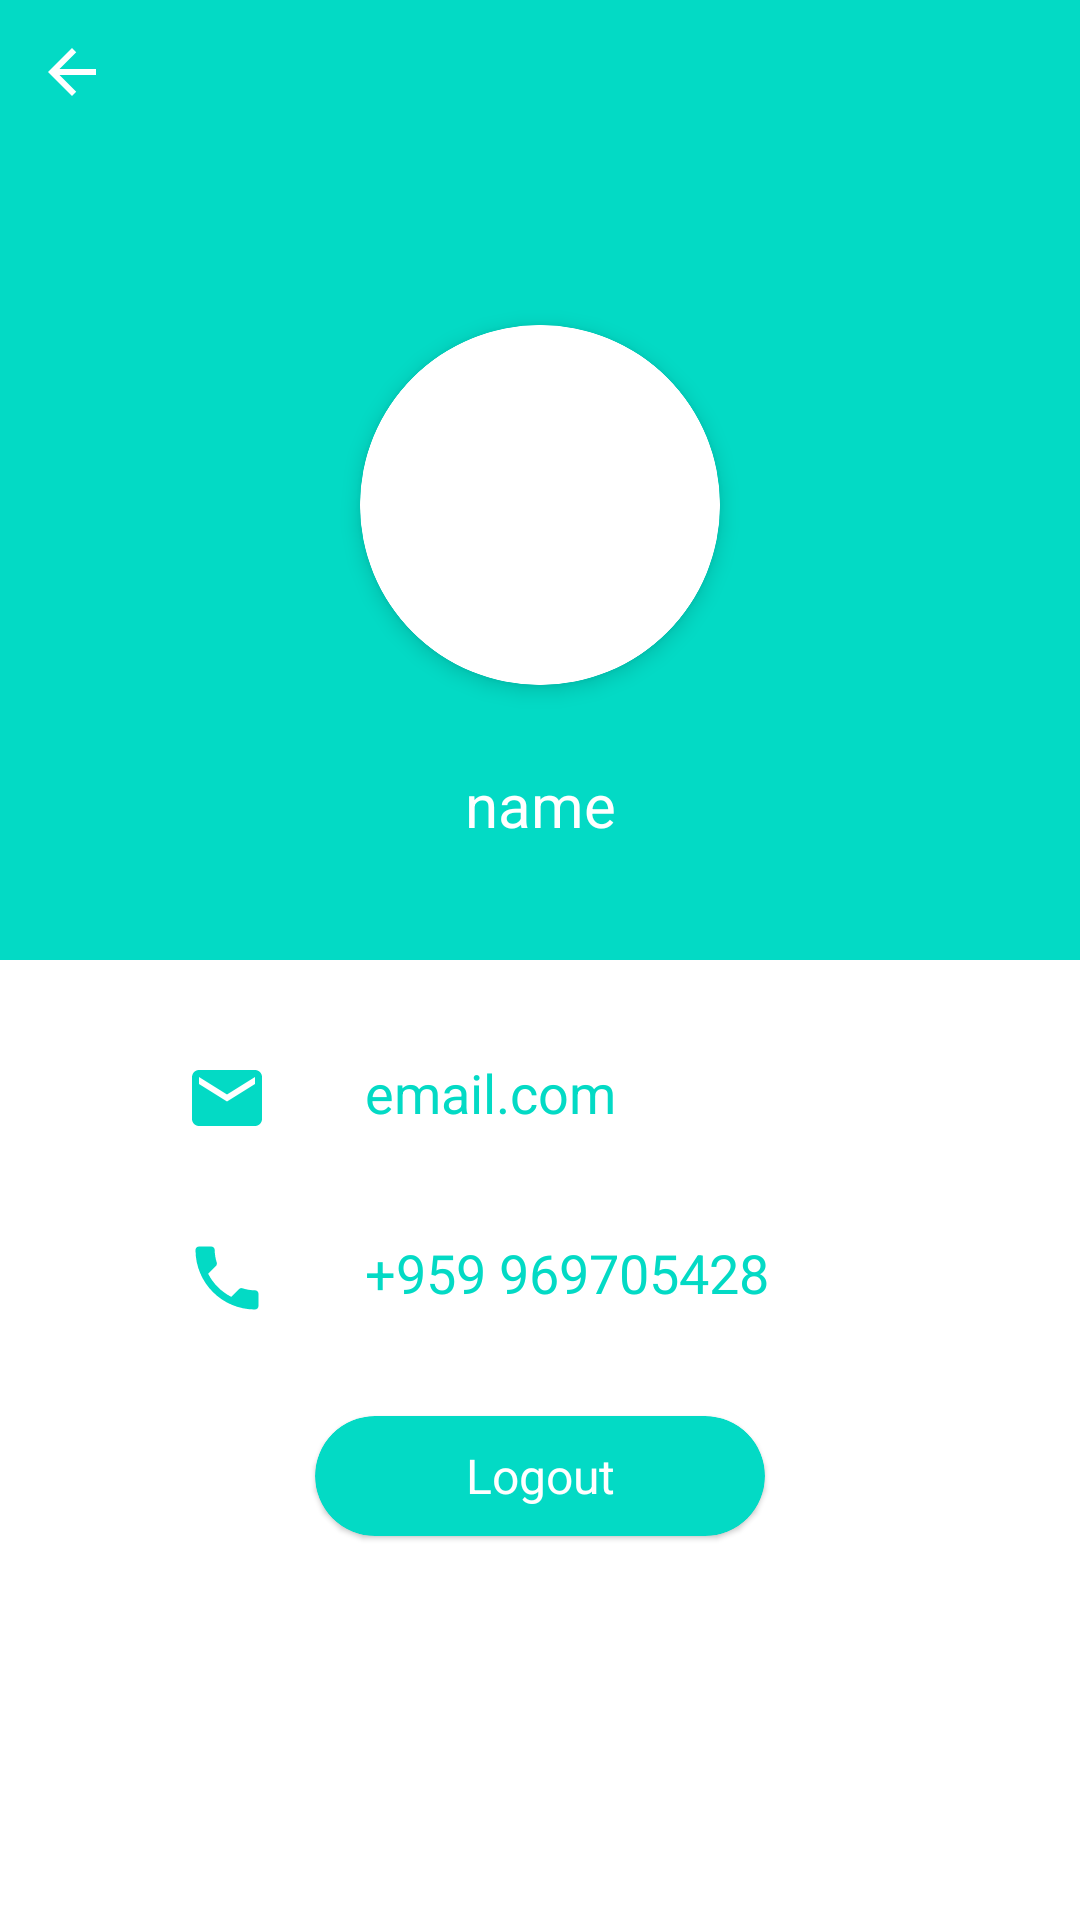

Where icons sit on this 1080*1920 app screen, as Rect(x1, y1, x2, y2):
arrow back: Rect(48, 48, 96, 96)
profile email: Rect(192, 1070, 262, 1126)
profile phone: Rect(195, 1246, 259, 1310)
